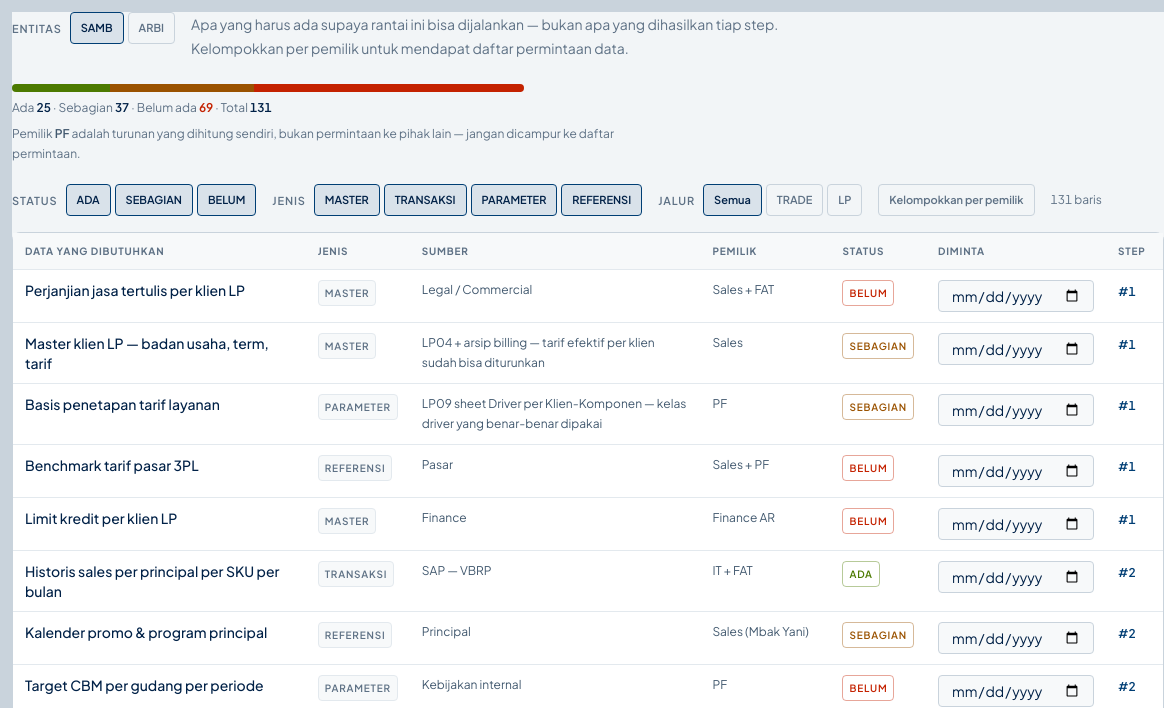
Test: §6.7 entity binds across the tabs; jalur does not › an active jalur filter on the register SAYS how many rows it hides
Expected: the text "131 baris" is shown, [1050,192,1102,208]
Step 1. Click the button "LP" → (845, 200), box [827,184,862,216]
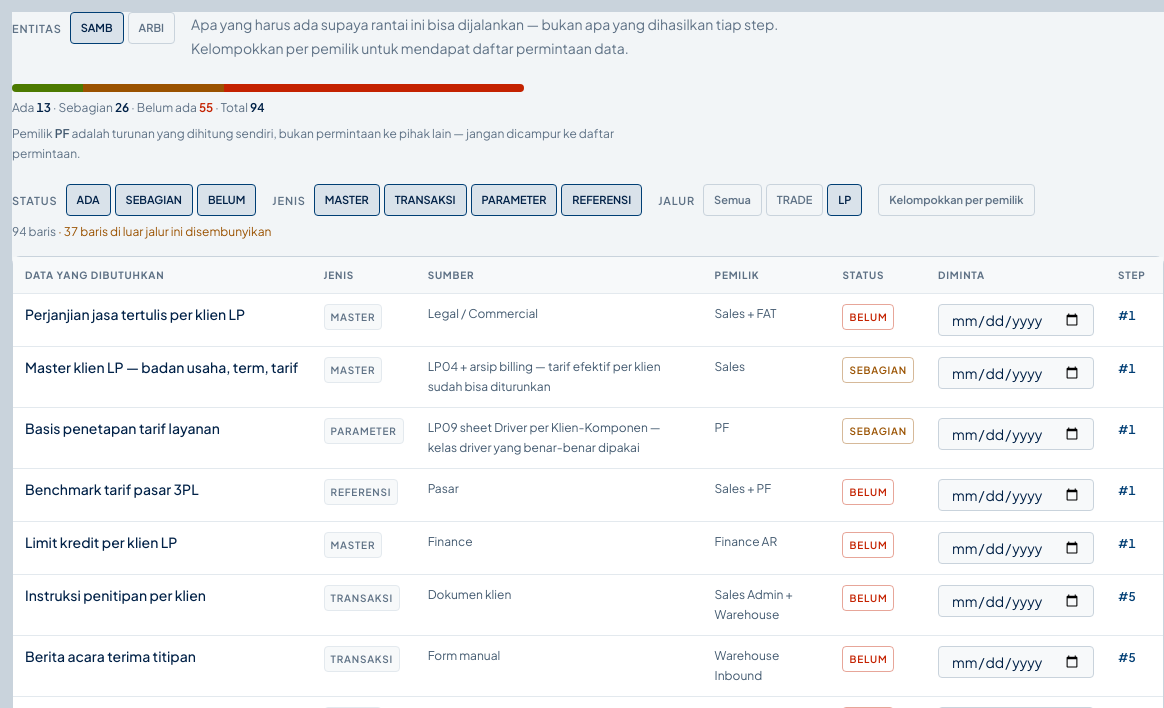
Expected: the text "94 baris" is shown, [12,224,271,240]
Expected: the text "· 37 baris di luar jalur ini disembunyikan" is shown, [56,224,271,239]
